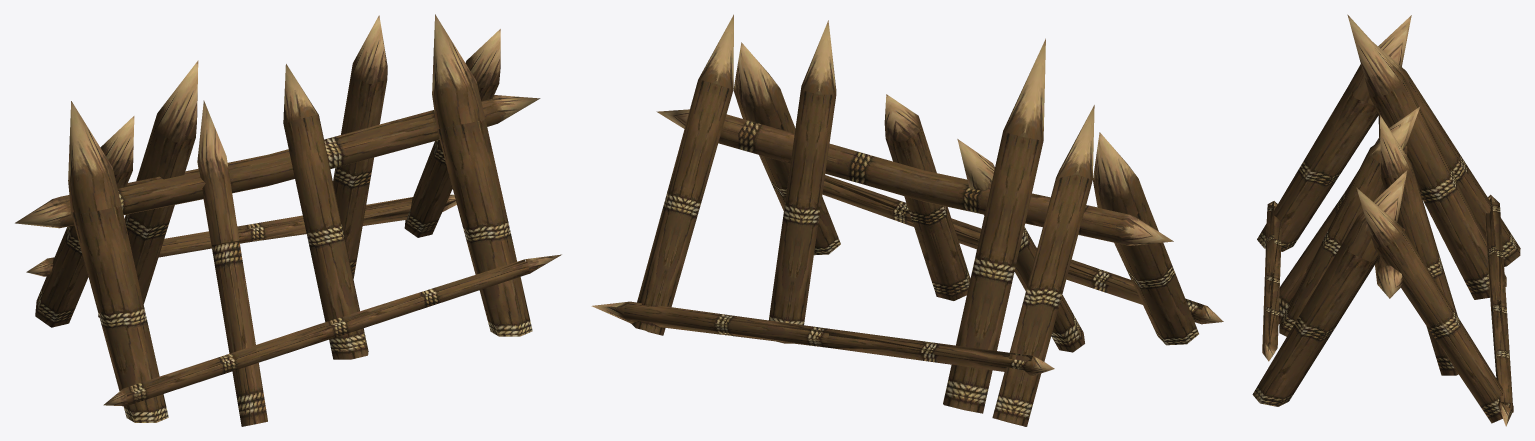
The model's file is zhalan_01.FBX.
The picture shows the model from 3 angles, left to right: view 1: azimuth 30°, elevation 25°; view 2: azimuth 150°, elevation 25°; view 3: azimuth 270°, elevation 25°; orthographic projection. The views are drawn at different scales.
Visible parts, largest first — view 1: 2_YiZhan_MuZhaLan_03; view 2: 2_YiZhan_MuZhaLan_03; view 3: 2_YiZhan_MuZhaLan_03.
Part boxes in pixels (x1,y1,x2,y2): 2_YiZhan_MuZhaLan_03: [15, 14, 561, 426]; 2_YiZhan_MuZhaLan_03: [591, 14, 1223, 426]; 2_YiZhan_MuZhaLan_03: [1252, 14, 1520, 426].
Size of the model in its own units: 4.64 by 2.91 by 2.34.
